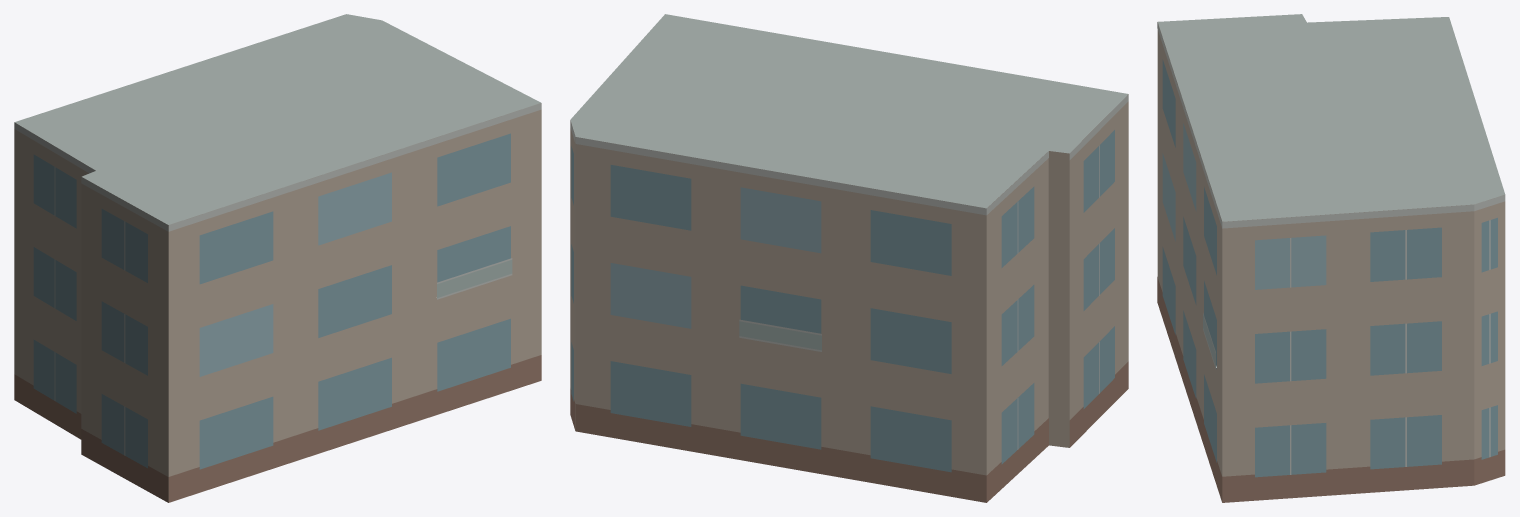
Rendered from survey-upis-32655321.glb.
3 views of the same model, side by side, from view 1: azimuth 30°, elevation 25°; view 2: azimuth 150°, elevation 25°; view 3: azimuth 270°, elevation 25° (orthographic). The views are drawn at different scales.
Parts seen in each view (by area): view 1: survey-upis-32655321.tmp; view 2: survey-upis-32655321.tmp; view 3: survey-upis-32655321.tmp.
Boxes of the visible parts, box(x1,y1,x2,y2) form: survey-upis-32655321.tmp: box(14, 14, 541, 502); survey-upis-32655321.tmp: box(570, 14, 1128, 502); survey-upis-32655321.tmp: box(1157, 14, 1505, 502).
Size of the model in its own units: 16.18 by 10.2 by 11.45.
